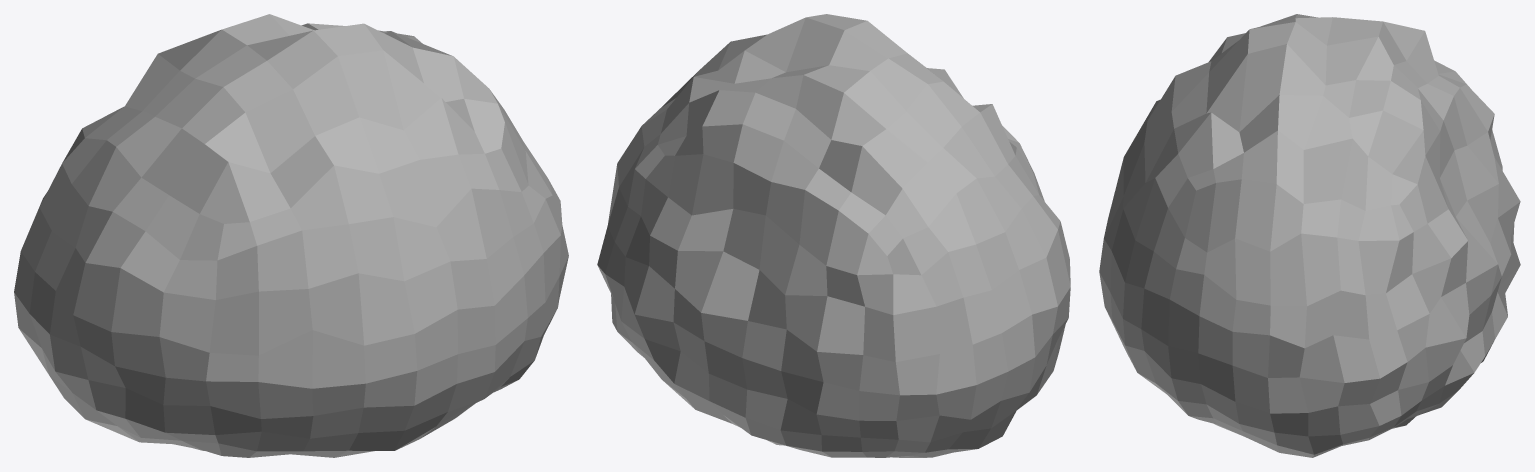
File: rock.glb
3 views of the same model, side by side, from view 1: azimuth 30°, elevation 25°; view 2: azimuth 150°, elevation 25°; view 3: azimuth 270°, elevation 25° (orthographic). The views are drawn at different scales.
Visible parts, largest first — view 1: rock; view 2: rock; view 3: rock.
Boxes of the visible parts, box(x1,y1,x2,y2) form: rock: box(14, 14, 568, 457); rock: box(597, 14, 1070, 457); rock: box(1099, 14, 1520, 457).
Bounding box in the file's own units: 1.88 × 1.54 × 1.54.
Materials: 1 (1 with a texture image).
